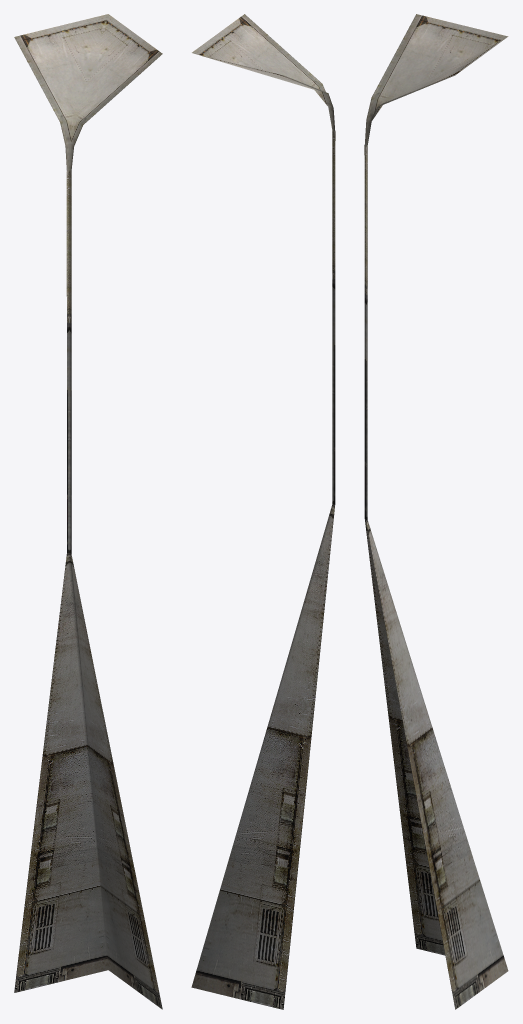
File: Wall_I_Giant10mts_09.fbx
The picture shows the model from 3 angles, left to right: view 1: azimuth 30°, elevation 25°; view 2: azimuth 150°, elevation 25°; view 3: azimuth 330°, elevation 25°; orthographic projection. The views are drawn at different scales.
Visible parts, largest first — view 1: Wall_I_Giant10mts_09; view 2: Wall_I_Giant10mts_09; view 3: Wall_I_Giant10mts_09.
Boxes of the visible parts, <box> form: Wall_I_Giant10mts_09: <box>14,14,162,1009</box>; Wall_I_Giant10mts_09: <box>191,14,335,1009</box>; Wall_I_Giant10mts_09: <box>364,14,508,1009</box>.
Bounding box in the file's own units: 207 × 2000 × 207.
